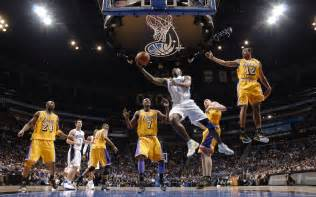basketball: (135, 51, 149, 66)
